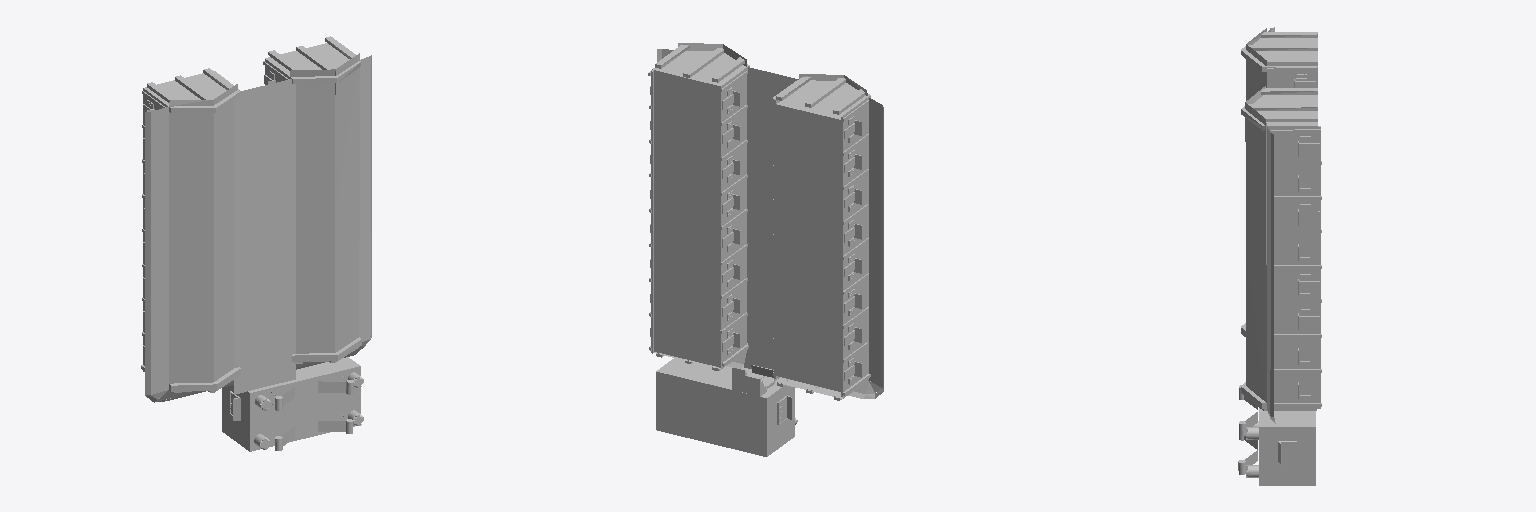
3 views of the same model, side by side, from view 1: azimuth 30°, elevation 25°; view 2: azimuth 150°, elevation 25°; view 3: azimuth 270°, elevation 25° (orthographic).
Parts seen in each view (by area): view 1: Solid_4Oo_Series.001, Plane_Plane.001, Cube.003_Cube.006; view 2: Solid_4Oo_Series.001, Cube.003_Cube.006, Plane_Plane.001, Cube.063_Cube.157, Cube.018_Cube.207, Cube.153_Cube.209, Cube.009_Cube.011, Cube.011_Cube.013; view 3: Solid_4Oo_Series.001, Cube.153_Cube.209, Cube.003_Cube.006, Cube.009_Cube.011, Cube.011_Cube.013.
Part boxes in pixels (x1,y1,x2,y2): Solid_4Oo_Series.001: (143, 43, 371, 402); Plane_Plane.001: (234, 79, 295, 394); Cube.003_Cube.006: (222, 357, 360, 451); Solid_4Oo_Series.001: (652, 43, 883, 398); Cube.003_Cube.006: (656, 358, 794, 456); Plane_Plane.001: (744, 67, 798, 369); Cube.063_Cube.157: (841, 100, 870, 396); Cube.018_Cube.207: (719, 71, 748, 367); Cube.153_Cube.209: (648, 70, 653, 353); Cube.009_Cube.011: (655, 44, 744, 82); Cube.011_Cube.013: (776, 76, 864, 114); Solid_4Oo_Series.001: (1241, 27, 1317, 423); Cube.153_Cube.209: (1271, 126, 1321, 408); Cube.003_Cube.006: (1259, 408, 1315, 485); Cube.009_Cube.011: (1261, 88, 1317, 121); Cube.011_Cube.013: (1261, 32, 1317, 65).
Bounding box in the file's own units: 0.8857 × 1.37 × 0.2817.